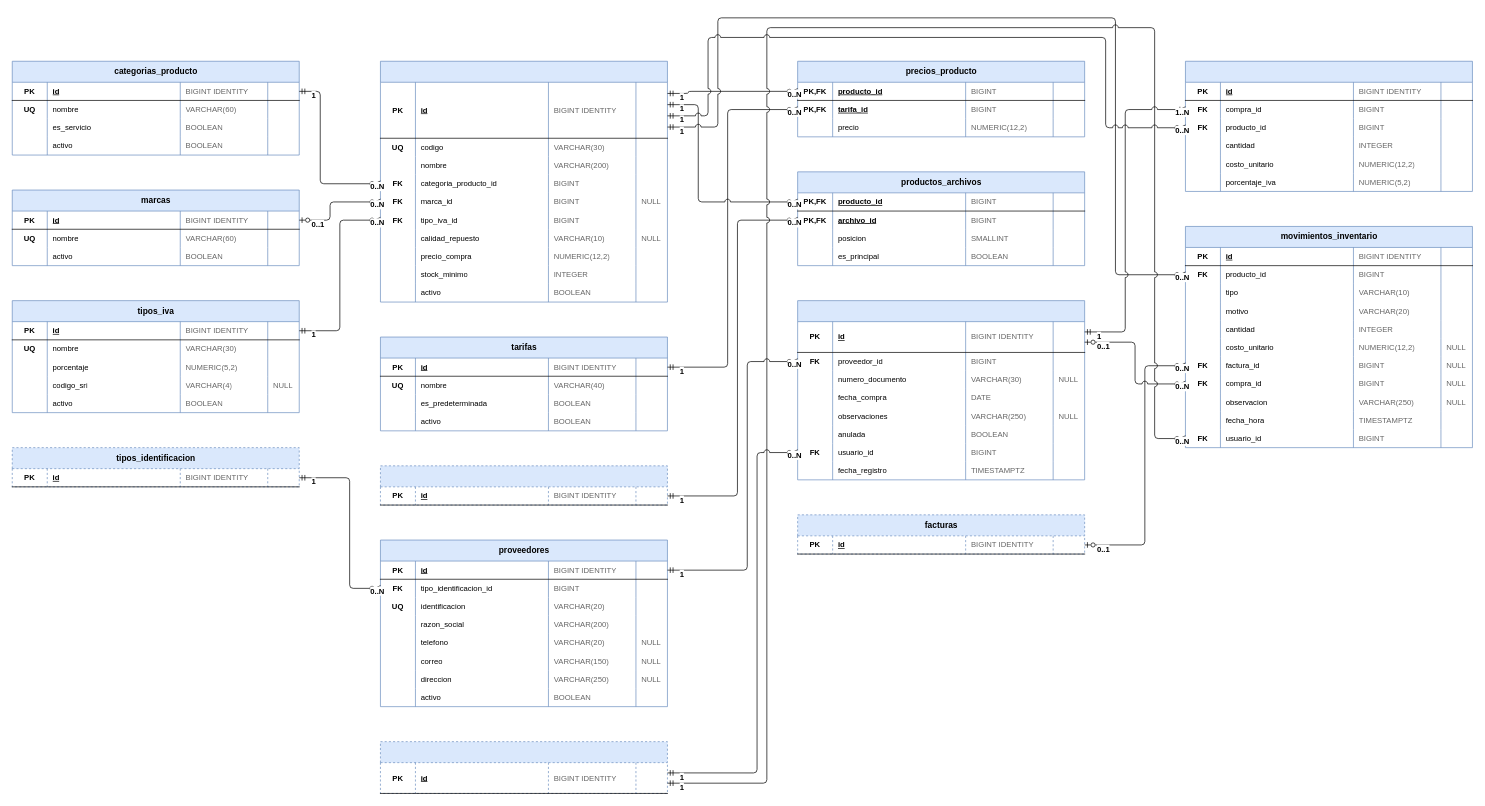
Image size: 1485x806. Some labels were removed from this diagram. The shapes that lost their labels are listed below. From the top down, each one's box as (x1, y1, x2, y2) in pixels, then its label:
(1185, 61, 1472, 191): detalle_compra
(380, 61, 667, 302): productos
(797, 300, 1085, 480): compras
(380, 465, 667, 505): archivos
(380, 741, 667, 793): usuarios
